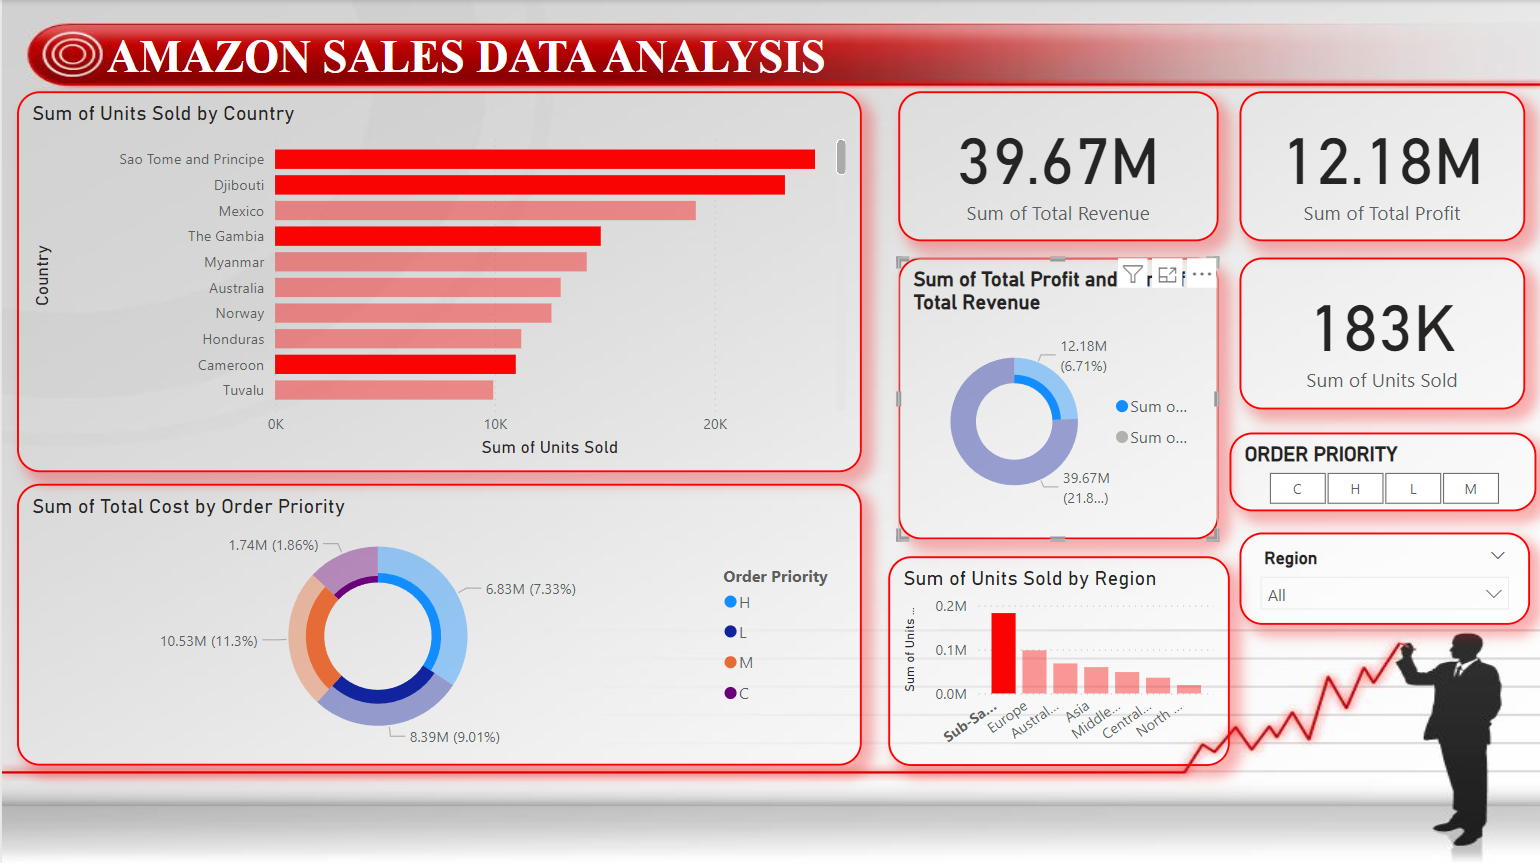

This screenshot's page, from the dashboard's own definition file:
{"tool":"powerbi","page":{"name":"Page 1","canvas":[1280,720],"ordinal":0},"visuals":[{"type":"card","fields":{"Values":["Sum(Amazon Sales data.Units Sold)"]},"box":[1029.2,214.1,237.4,126.2],"z":0},{"type":"card","fields":{"Values":["Sum(Amazon Sales data.Total Profit)"]},"box":[1029.2,75.5,237.4,124.9],"z":1000},{"type":"card","fields":{"Values":["Sum(Amazon Sales data.Total Revenue)"]},"box":[745.1,75.5,266.2,124.9],"z":2000},{"type":"textbox","box":[82.3,20.6,662.8,64.5],"z":3000},{"type":"donutChart","fields":{"Category":["Amazon Sales data.Order Priority"],"Y":["Sum(Amazon Sales data.Total Cost)"]},"box":[12.3,402.1,702.6,234.6],"z":5000},{"type":"donutChart","fields":{"Y":["Sum(Amazon Sales data.Total Profit)","Sum(Amazon Sales data.Total Revenue)"]},"box":[745.1,214.1,266.2,234.6],"z":6000},{"type":"slicer","title":"ORDER PRIORITY","fields":{"Values":["Amazon Sales data.Order Priority"]},"box":[1020.9,359.5,255.2,65.9],"z":7000},{"type":"clusteredBarChart","fields":{"Category":["Amazon Sales data.Country"],"Y":["Sum(Amazon Sales data.Units Sold)"]},"box":[12.3,75.5,702.6,317],"z":7001},{"type":"clusteredColumnChart","fields":{"Y":["Sum(Amazon Sales data.Units Sold)"],"Category":["Amazon Sales data.Region"]},"box":[736.9,462.4,284,174.3],"z":7002},{"type":"slicer","fields":{"Values":["Amazon Sales data.Region"]},"box":[1029.2,443.2,241.5,76.8],"z":7003}]}

Visuals, with their boxes in screenshot pixels (x1, y1, x2, y2), scaled from the page's 1280x720 canvas onto the 1540x863 screenshot:
card - Sum(Amazon Sales data.Units Sold): detection(1238, 257, 1524, 408)
card - Sum(Amazon Sales data.Total Profit): detection(1238, 90, 1524, 240)
card - Sum(Amazon Sales data.Total Revenue): detection(896, 90, 1217, 240)
textbox: detection(99, 25, 896, 102)
donutChart - Amazon Sales data.Order Priority x Sum(Amazon Sales data.Total Cost): detection(15, 482, 860, 763)
donutChart - Sum(Amazon Sales data.Total Profit) x Sum(Amazon Sales data.Total Revenue): detection(896, 257, 1217, 538)
"ORDER PRIORITY" slicer: detection(1228, 431, 1535, 510)
clusteredBarChart - Amazon Sales data.Country x Sum(Amazon Sales data.Units Sold): detection(15, 90, 860, 470)
clusteredColumnChart - Sum(Amazon Sales data.Units Sold) x Amazon Sales data.Region: detection(887, 554, 1228, 763)
slicer - Amazon Sales data.Region: detection(1238, 531, 1529, 623)
